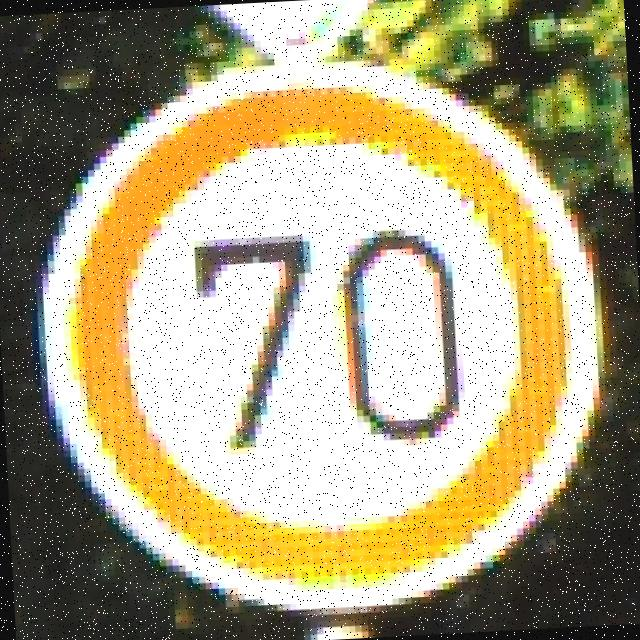Ograniczenie predkosci do 70: (68, 81, 576, 588)
